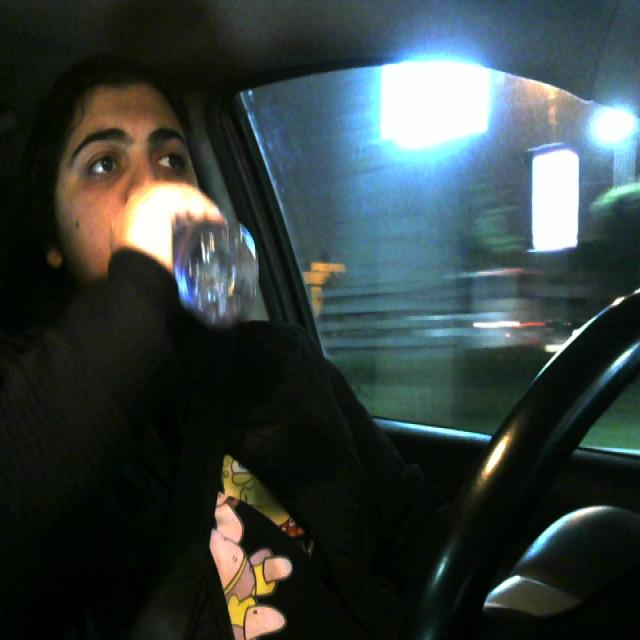drinking: (147, 187, 266, 344)
